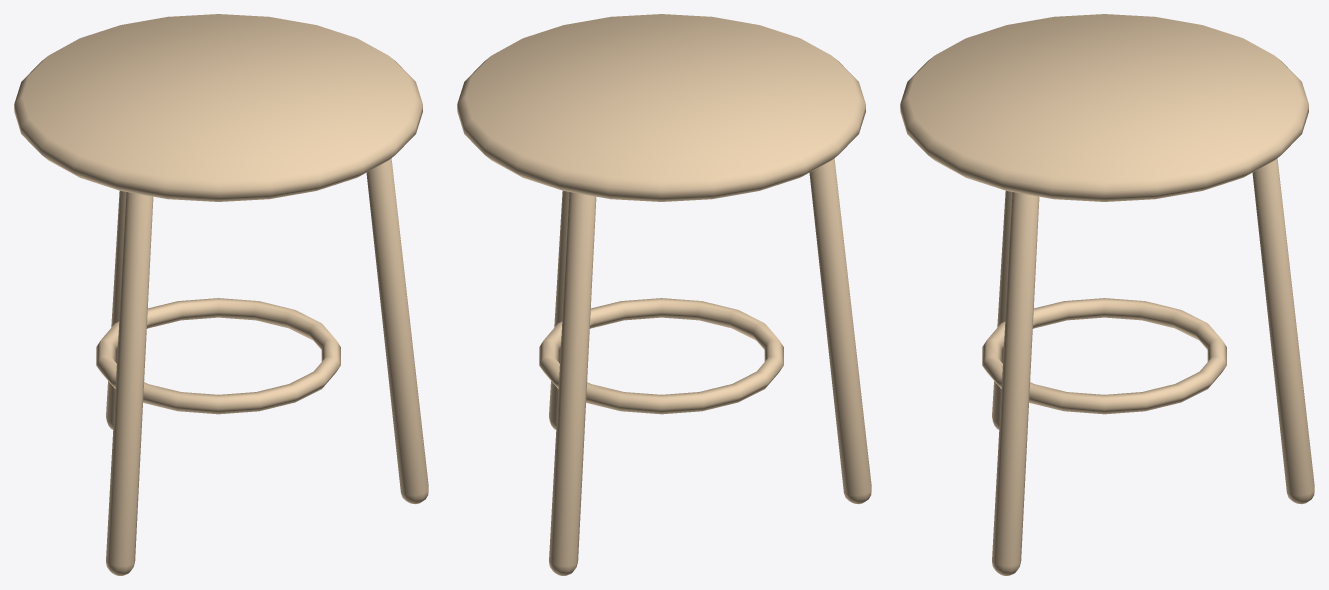
The model's file is companion-animals-and-pet-home-side-table-520f07f4__20678.glb.
3 renders of one model, left to right at view 1: azimuth 30°, elevation 25°; view 2: azimuth 150°, elevation 25°; view 3: azimuth 270°, elevation 25°, orthographic.
Parts seen in each view (by area): view 1: side-table; view 2: side-table; view 3: side-table.
Part boxes in pixels (x1,y1,x2,y2): side-table: [14, 14, 428, 575]; side-table: [457, 14, 871, 575]; side-table: [900, 14, 1314, 575].
Size of the model in its own units: 0.5 by 0.5479 by 0.507.
